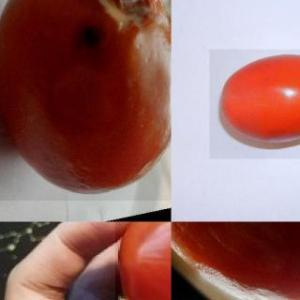tomato: (210, 50, 300, 160)
